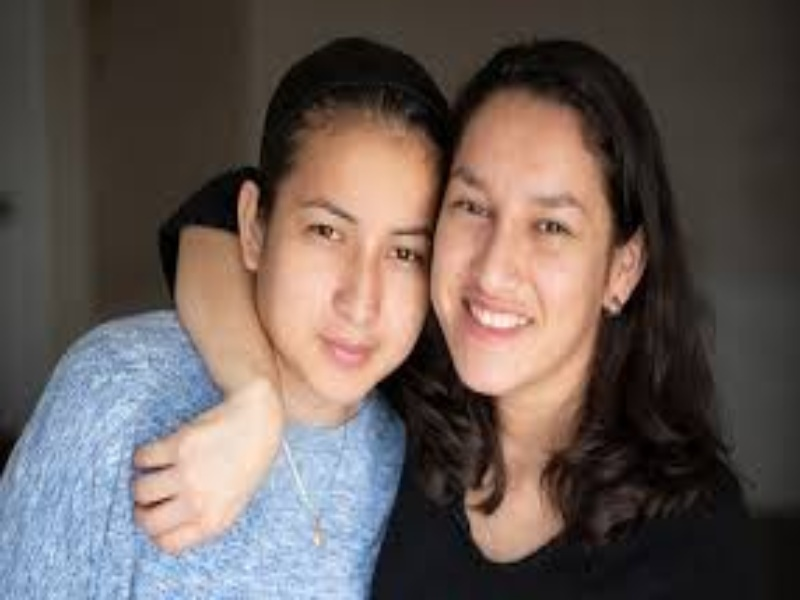person: (490, 41, 719, 577)
